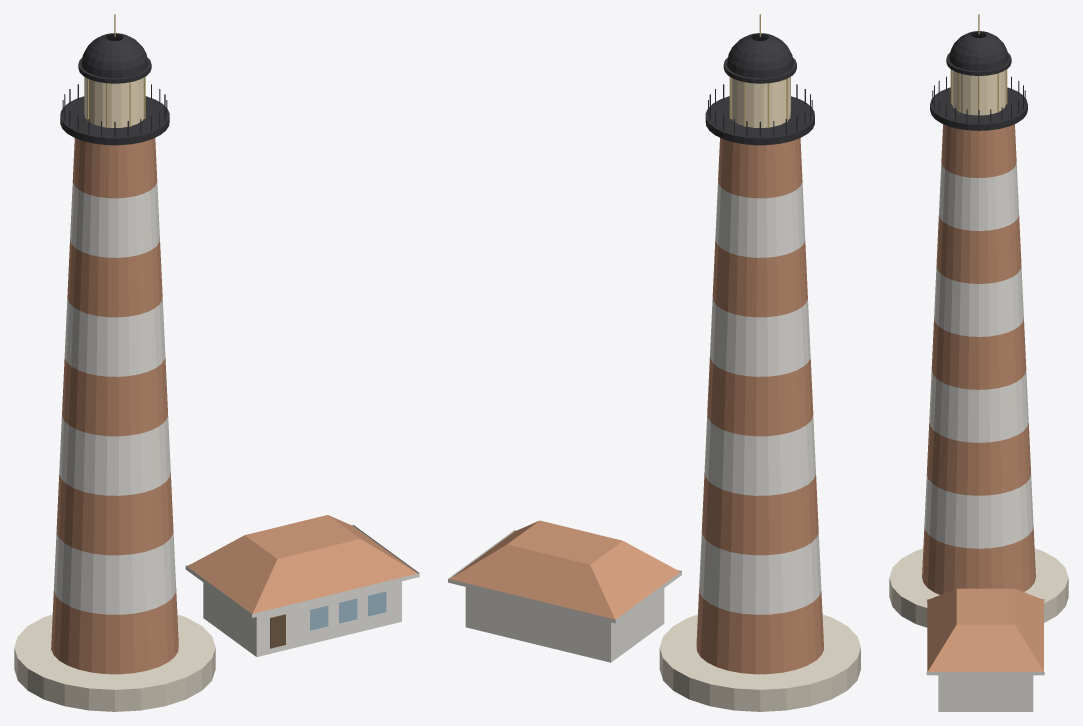
The model's file is E7-7_farol_aceso.fbx.
The picture shows the model from 3 angles, left to right: view 1: azimuth 30°, elevation 25°; view 2: azimuth 150°, elevation 25°; view 3: azimuth 270°, elevation 25°; orthographic projection. The views are drawn at different scales.
Visible parts, largest first — view 1: E7-7_farol_aceso; view 2: E7-7_farol_aceso; view 3: E7-7_farol_aceso.
Boxes of the visible parts, box(x1,y1,x2,y2) form: E7-7_farol_aceso: box(14, 14, 419, 711); E7-7_farol_aceso: box(448, 14, 860, 711); E7-7_farol_aceso: box(889, 14, 1068, 711).
Bounding box in the file's own units: 27.45 × 47.4 × 13.2.
